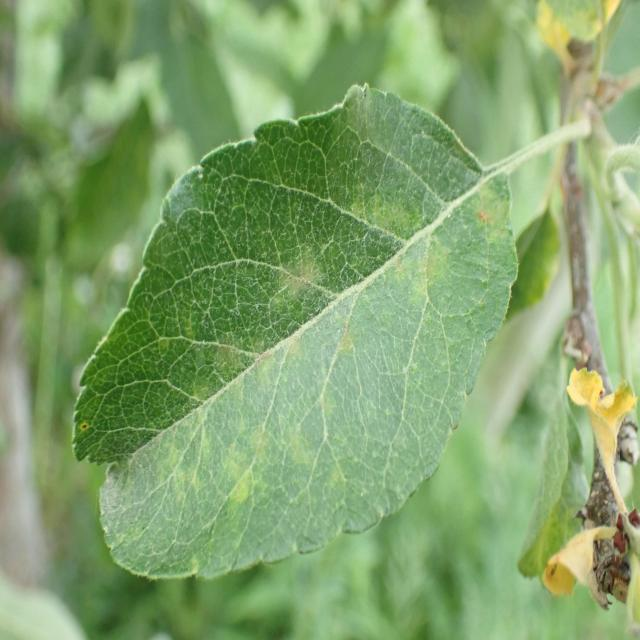scab: (110, 103, 512, 531)
